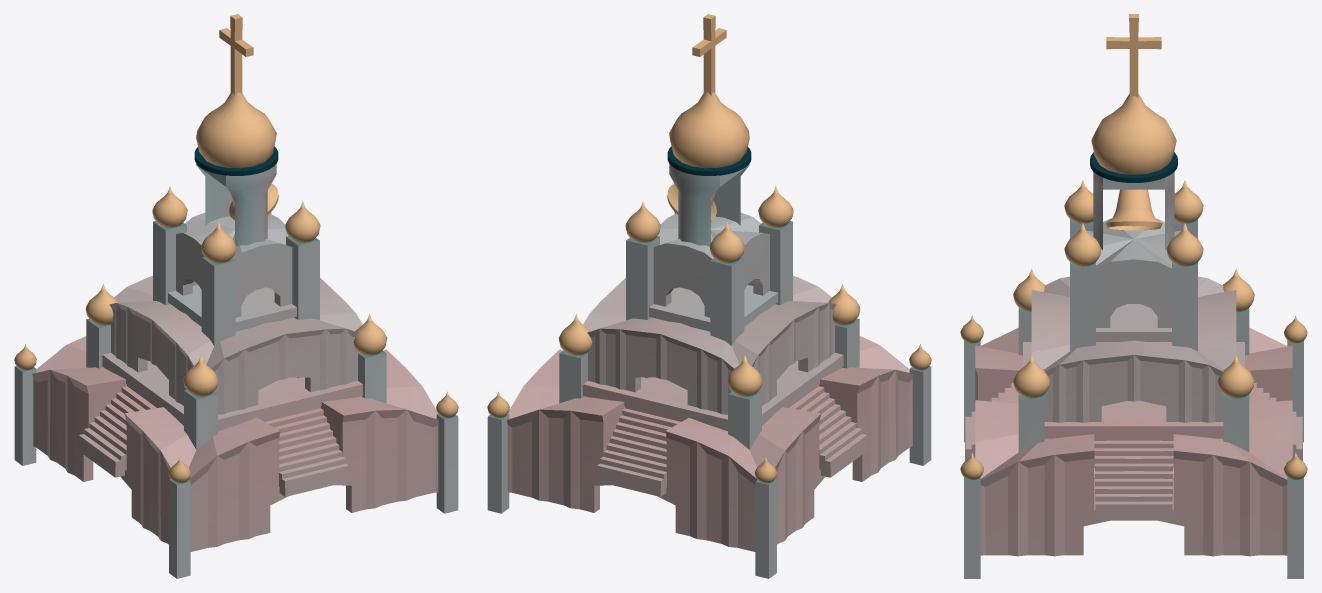
File: charch_anim.fbx
3 views of the same model, side by side, from view 1: azimuth 30°, elevation 25°; view 2: azimuth 150°, elevation 25°; view 3: azimuth 270°, elevation 25° (orthographic). The views are drawn at different scales.
Parts seen in each view (by area): view 1: charch; view 2: charch; view 3: charch, bell.
Part boxes in pixels (x1,y1,x2,y2): charch: (14,14,458,578); charch: (487,14,931,578); charch: (960,14,1307,578); bell: (1105,189,1162,230).
Bounding box in the file's own units: 1360 × 2121 × 1360.
1 material, 1 textured.
